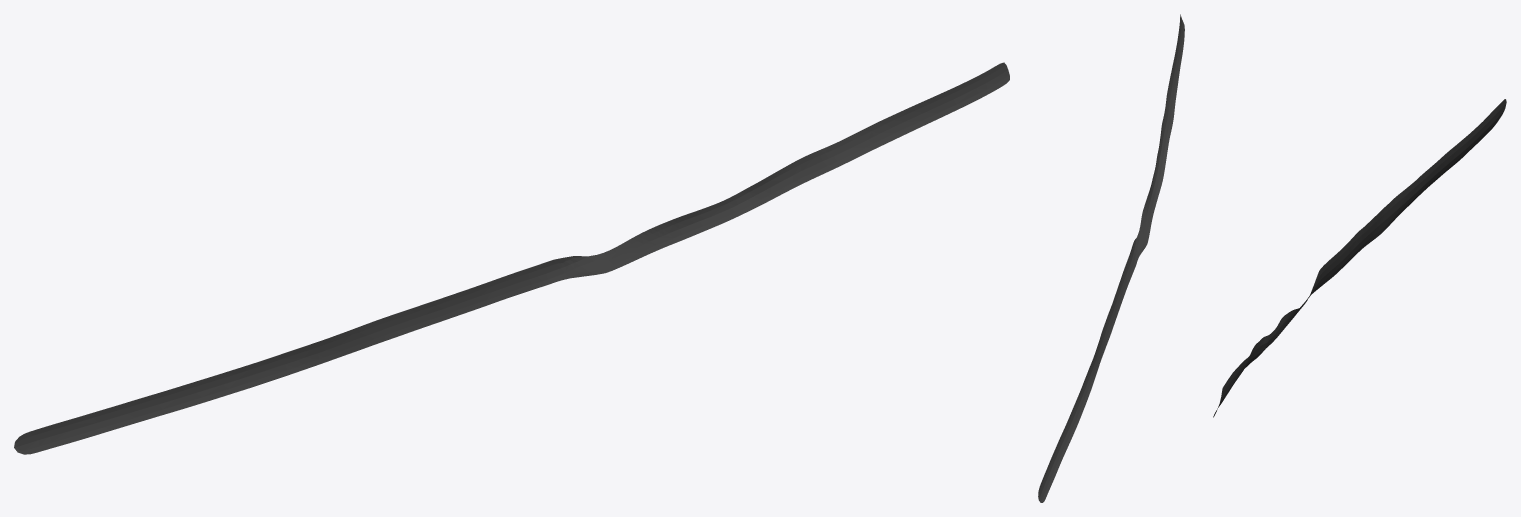
Rendered from Radius_border_lateral.glb.
The picture shows the model from 3 angles, left to right: view 1: azimuth 90°, elevation 25°; view 2: azimuth 150°, elevation 25°; view 3: azimuth 330°, elevation 25°; orthographic projection. The views are drawn at different scales.
Visible parts, largest first — view 1: Radius_border_lateral; view 2: Radius_border_lateral; view 3: Radius_border_lateral.
Part boxes in pixels (x1,y1,x2,y2): Radius_border_lateral: [14, 62, 1009, 454]; Radius_border_lateral: [1038, 14, 1184, 502]; Radius_border_lateral: [1213, 99, 1506, 417].
Size of the model in its own units: 0.4389 by 0.344 by 1.26.
Materials: 1 (1 with a texture image).
